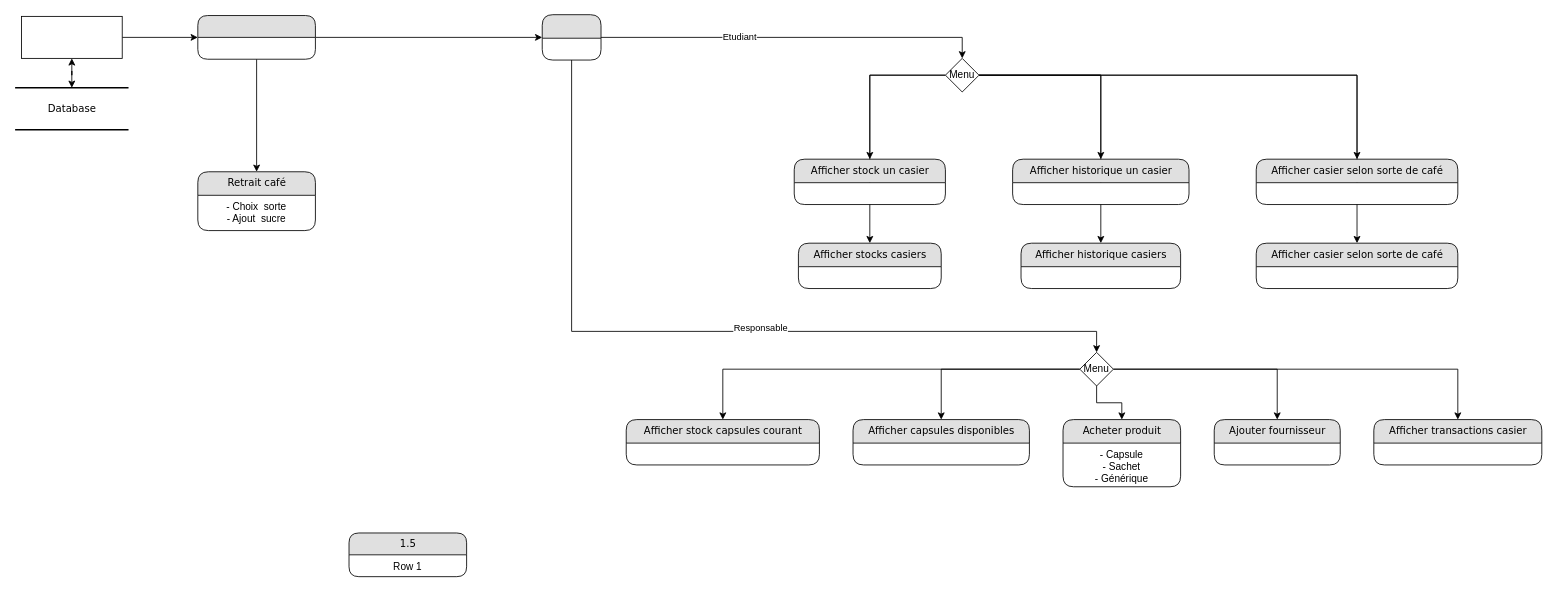
The diagram is 1557 pixels wide and 594 high, and some of its shapes have lost their labels. Here are the shapes that lost their labels. From the top down, the centre of each, then its label:
At (x=71, y=37): "Start".
At (x=256, y=37): "Identification".
At (x=571, y=37): "Menus".
